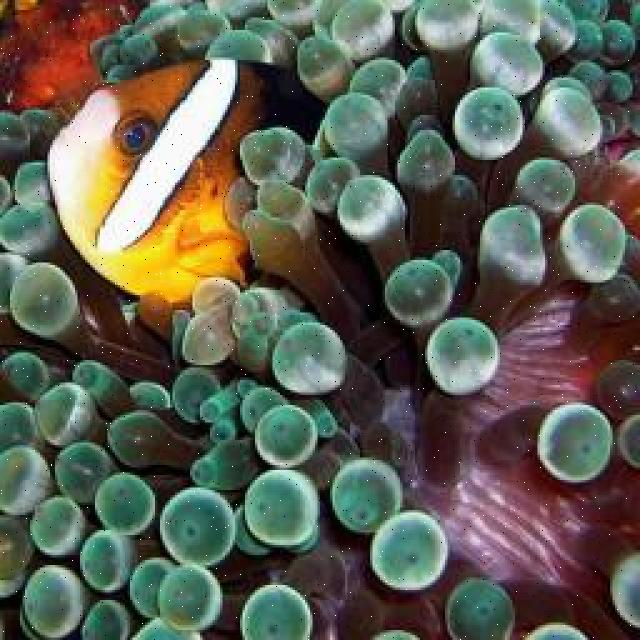fish: (47, 58, 328, 319)
reefs: (0, 0, 638, 638)
